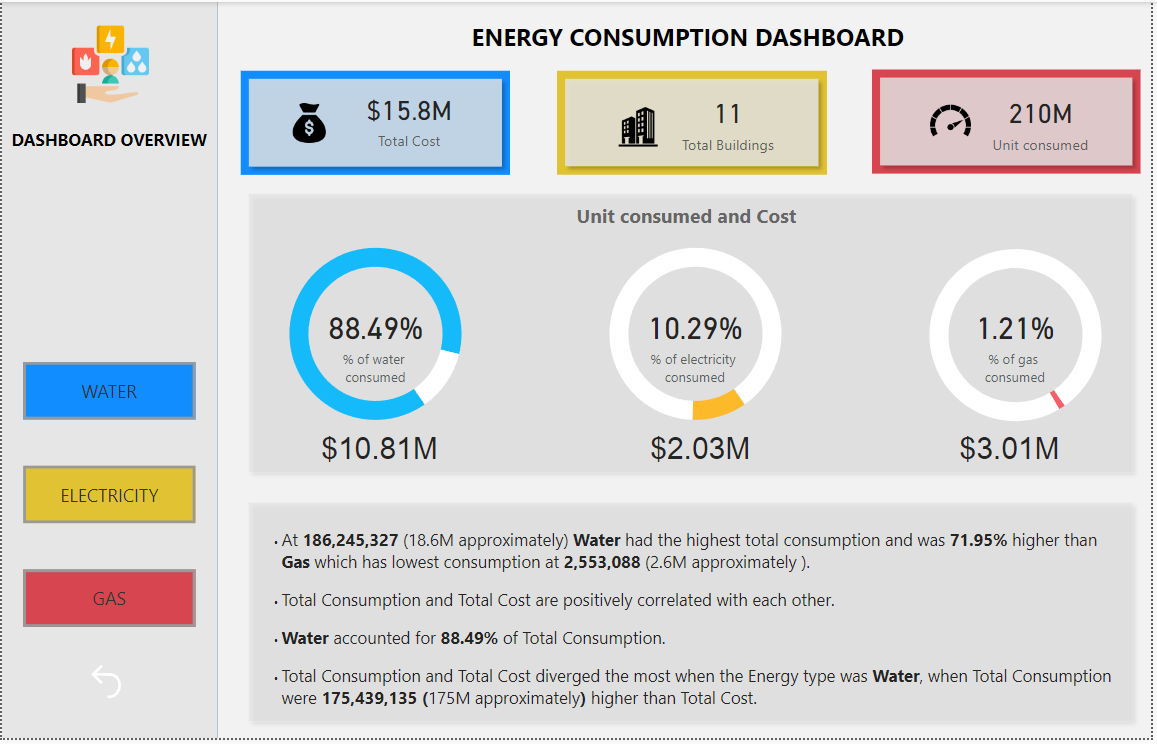

Layout of this report page (visuals, bound fields, positions):
{"tool":"powerbi","page":{"name":" OVERVIEW","canvas":[1280,820],"ordinal":0},"visuals":[{"type":"shape","box":[266.5,205,1002.2,328],"z":0},{"type":"shape","box":[0,0,240.4,820],"z":1000},{"type":"shape","box":[618.7,76.8,300.1,115.2],"z":2000,"group":"g1"},{"type":"shape","box":[969.6,74.8,299,115.8],"z":2000},{"type":"donutChart","fields":{"Y":["All Measures.Water Unit consumed","All Measures.Water Unit consumed left"]},"box":[271.4,245.3,289.4,249.6],"z":3000},{"type":"card","fields":{"Values":["All Measures.Water Cost"]},"box":[287.3,461.2,267.7,72.4],"z":4000},{"type":"shape","title":"Total Cost","box":[266.5,77.2,300,115.8],"z":5000},{"type":"card","fields":{"Values":["All Measures.% of water consumed"]},"box":[352.2,291.1,127.8,159.2],"z":6000},{"type":"donutChart","fields":{"Y":["All Measures.Gas Unit consumed","All Measures.Gas Unit consumed left"]},"box":[984.1,246.5,289.4,249.6],"z":7000},{"type":"donutChart","fields":{"Y":["All Measures.Electricity Unit consumed","All Measures.Electricity Unit consumed left"]},"box":[627.7,245.3,289.4,249.6],"z":8000},{"type":"card","fields":{"Values":["All Measures.% of gas consumed"]},"box":[1064.9,291.1,126.6,159.2],"z":9000},{"type":"card","fields":{"Values":["All Measures.% of electricity consumed"]},"box":[709.1,291.1,126.6,159.2],"z":10000},{"type":"card","fields":{"Values":["All Measures.Gas Cost"]},"box":[989.2,461.2,267.7,72.4],"z":11000},{"type":"card","fields":{"Values":["All Measures.Electricity Cost"]},"box":[644.3,461.2,266.5,72.4],"z":12000},{"type":"textbox","box":[535.3,15.9,489.1,62],"z":13000},{"type":"image","box":[66.3,15.7,108.5,108.5],"z":14000},{"type":"textbox","box":[5.6,135,235.3,69.6],"z":15000},{"type":"group","id":"g1","title":"Group 2","box":[618.7,76.8,300.1,115.2],"z":16000},{"type":"card","fields":{"Values":["All Measures.Unit consumed"]},"box":[1056.5,84.4,200.2,96.5],"z":17000},{"type":"card","fields":{"Values":["Count(Building Master.Building)"]},"box":[709.2,81.6,200.3,105.6],"z":18000,"group":"g1"},{"type":"textbox","box":[634.8,219,264.5,45.9],"z":18000},{"type":"actionButton","box":[23.2,401.1,191.8,63.9],"z":19000},{"type":"card","fields":{"Values":["All Measures.Total Cost"]},"box":[353.4,77.2,200.2,106.1],"z":20000},{"type":"image","box":[674.2,111.6,70,55.2],"z":21000,"group":"g1"},{"type":"actionButton","box":[23.2,516.9,191.8,63.9],"z":21000},{"type":"image","box":[314.8,107.3,55.5,55.5],"z":22000},{"type":"image","box":[1028.7,104.9,55.5,55.5],"z":23000},{"type":"actionButton","box":[23.2,632.7,191.8,63.9],"z":24000},{"type":"actionButton","box":[91.9,732.3,64,48.7],"z":25000},{"type":"shape","box":[265.9,548.5,1002.4,261.7],"z":26000},{"type":"textbox","box":[288.7,580.3,970,217.6],"z":27000}]}

Visuals, with their boxes in screenshot pixels (x1, y1, x2, y2), scaled from the page's 1280x820 canvas onto the 1157x744 screenshot:
shape: rect(241, 186, 1147, 484)
shape: rect(0, 0, 217, 743)
shape: rect(559, 70, 831, 174)
shape: rect(876, 68, 1147, 173)
donutChart - All Measures.Water Unit consumed x All Measures.Water Unit consumed left: rect(245, 223, 507, 449)
card - All Measures.Water Cost: rect(260, 418, 502, 484)
"Total Cost" shape: rect(241, 70, 512, 175)
card - All Measures.% of water consumed: rect(318, 264, 434, 409)
donutChart - All Measures.Gas Unit consumed x All Measures.Gas Unit consumed left: rect(890, 224, 1151, 450)
donutChart - All Measures.Electricity Unit consumed x All Measures.Electricity Unit consumed left: rect(567, 223, 829, 449)
card - All Measures.% of gas consumed: rect(963, 264, 1077, 409)
card - All Measures.% of electricity consumed: rect(641, 264, 755, 409)
card - All Measures.Gas Cost: rect(894, 418, 1136, 484)
card - All Measures.Electricity Cost: rect(582, 418, 823, 484)
textbox: rect(484, 14, 926, 71)
image: rect(60, 14, 158, 113)
textbox: rect(5, 122, 218, 186)
"Group 2" group: rect(559, 70, 831, 174)
card - All Measures.Unit consumed: rect(955, 77, 1136, 164)
card - Count(Building Master.Building): rect(641, 74, 822, 170)
textbox: rect(574, 199, 813, 240)
actionButton: rect(21, 364, 194, 422)
card - All Measures.Total Cost: rect(319, 70, 500, 166)
image: rect(609, 101, 673, 151)
actionButton: rect(21, 469, 194, 527)
image: rect(285, 97, 335, 148)
image: rect(930, 95, 980, 146)
actionButton: rect(21, 574, 194, 632)
actionButton: rect(83, 664, 141, 709)
shape: rect(240, 498, 1146, 735)
textbox: rect(261, 527, 1138, 724)
